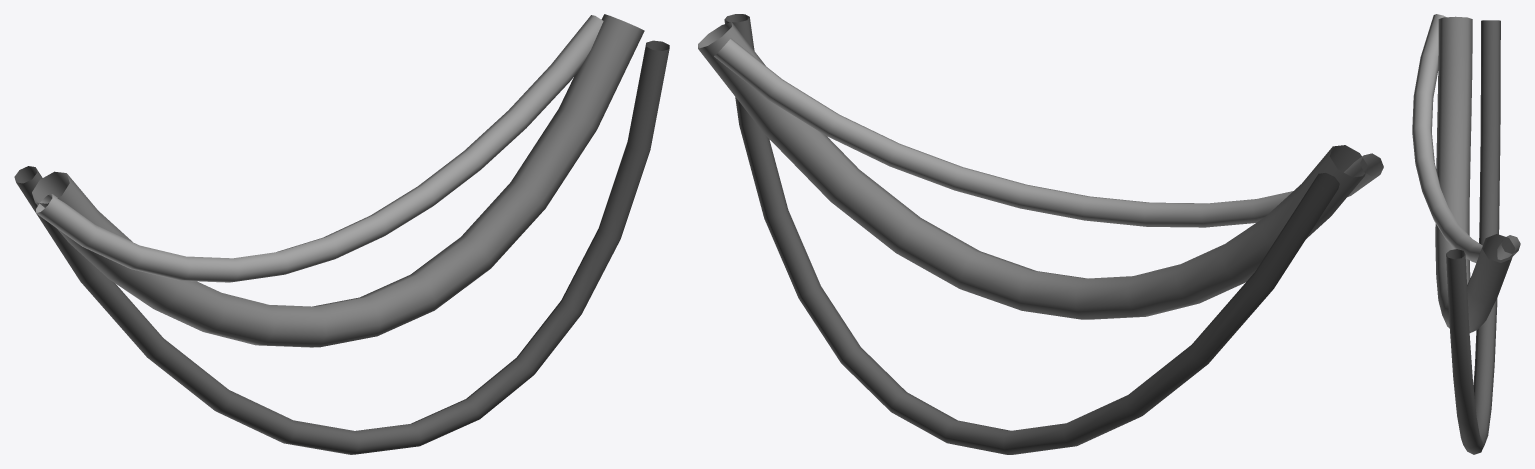
The model's file is Cables01.fbx.
3 renders of one model, left to right at view 1: azimuth 30°, elevation 25°; view 2: azimuth 150°, elevation 25°; view 3: azimuth 270°, elevation 25°, orthographic. The views are drawn at different scales.
Visible parts, largest first — view 1: BezierCurve.001; view 2: BezierCurve.001; view 3: BezierCurve.001.
Part boxes in pixels (x1,y1,x2,y2): BezierCurve.001: [14, 14, 669, 454]; BezierCurve.001: [698, 14, 1383, 454]; BezierCurve.001: [1412, 14, 1520, 454].
Size of the model in its own units: 209 by 116 by 39.52.
